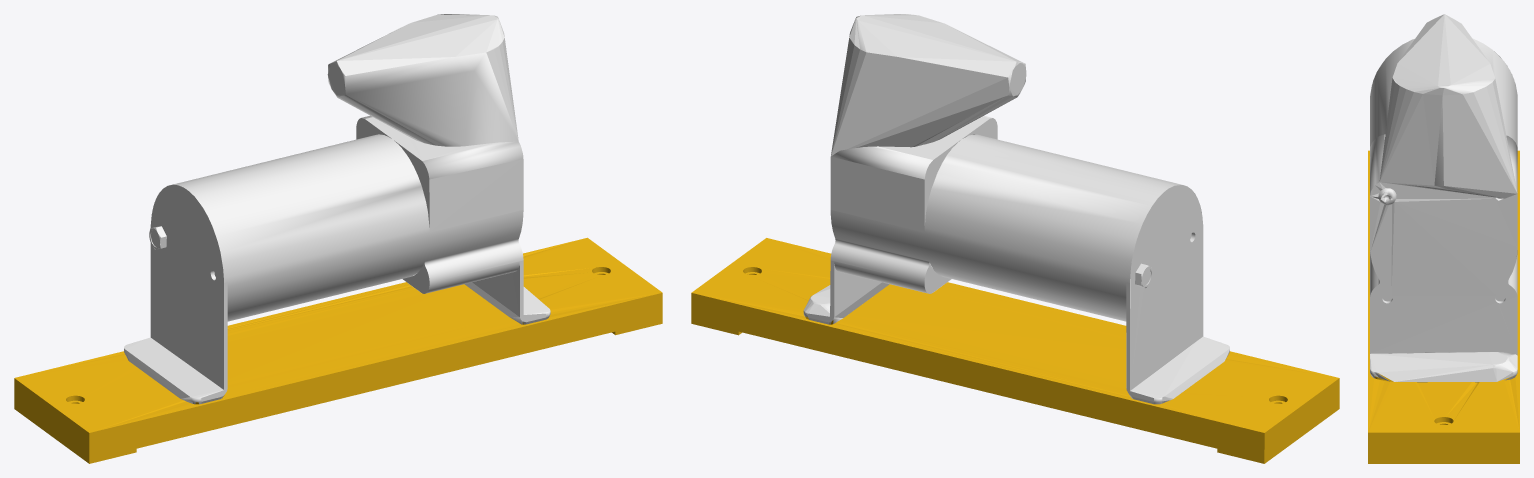
File: compressor_assembly.dae
3 renders of one model, left to right at view 1: azimuth 30°, elevation 25°; view 2: azimuth 150°, elevation 25°; view 3: azimuth 270°, elevation 25°, orthographic.
Parts seen in each view (by area): view 1: Object; view 2: Object; view 3: Object.
Boxes of the visible parts, box(x1,y1,x2,y2) form: Object: box(14, 14, 662, 463); Object: box(691, 14, 1339, 463); Object: box(1368, 14, 1519, 463).
Size of the model in its own units: 0.2423 by 0.055 by 0.1257.
